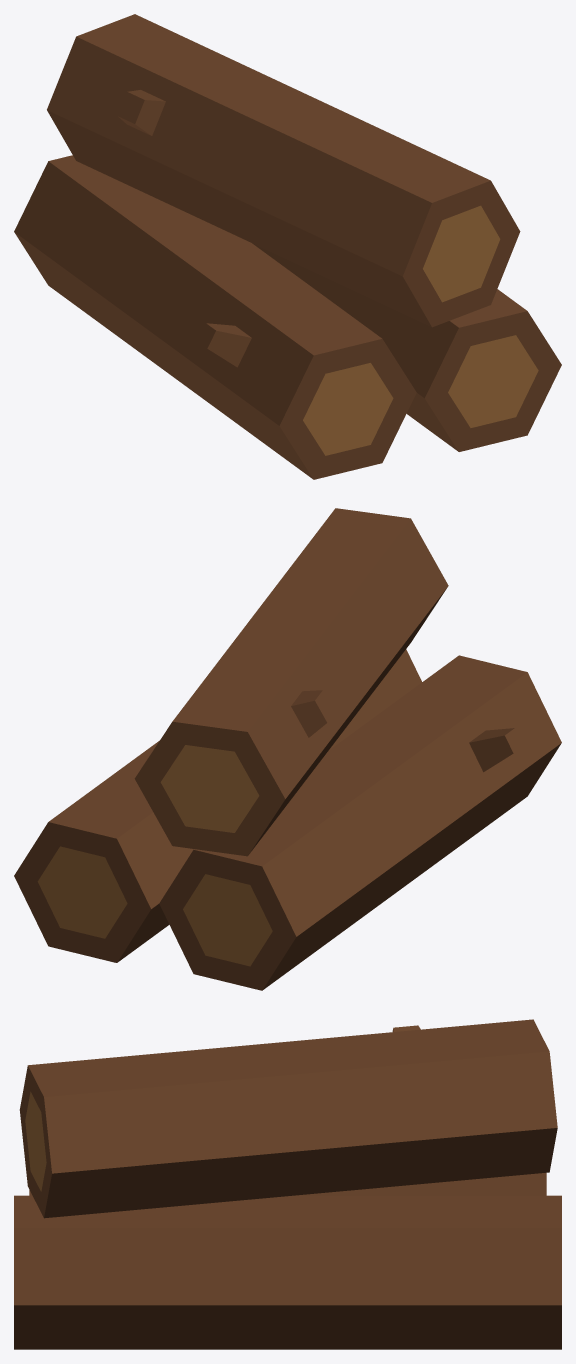
The model's file is log_stack.glb.
3 views of the same model, one above another, from view 1: azimuth 30°, elevation 25°; view 2: azimuth 150°, elevation 25°; view 3: azimuth 270°, elevation 25° (orthographic). The views are drawn at different scales.
Parts seen in each view (by area): view 1: log_stack; view 2: log_stack; view 3: log_stack.
Boxes of the visible parts, x1,y1,x2,y2 form: log_stack: (14, 14, 561, 479); log_stack: (14, 508, 561, 990); log_stack: (14, 1019, 561, 1349).
Bounding box in the file's own units: 0.4247 × 0.3464 × 0.71.
